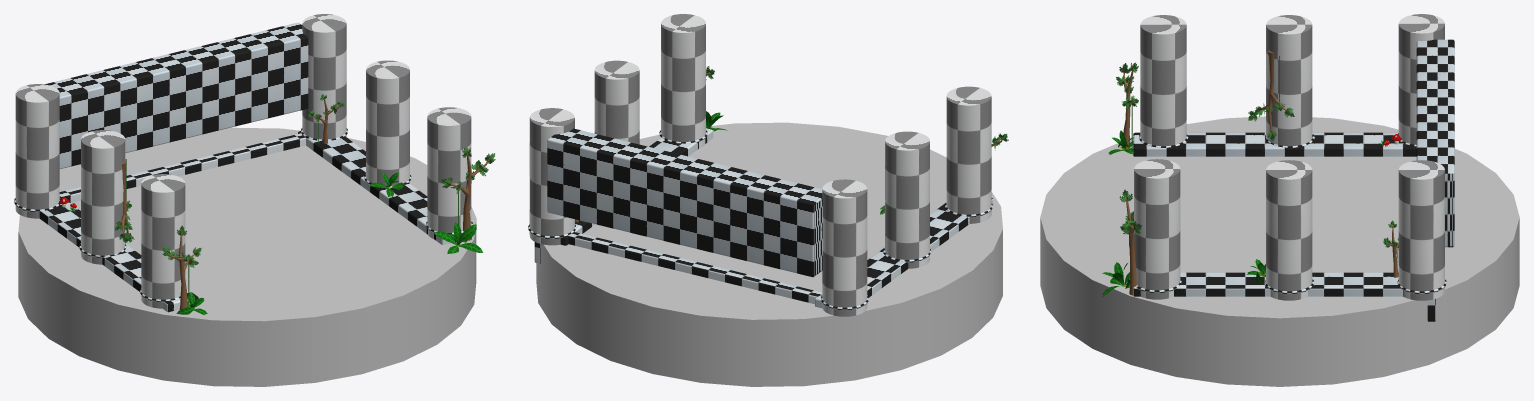
The model's file is GameScene_Jungle.FBX.
3 renders of one model, left to right at view 1: azimuth 30°, elevation 25°; view 2: azimuth 150°, elevation 25°; view 3: azimuth 270°, elevation 25°, orthographic. The views are drawn at different scales.
Visible parts, largest first — view 1: JungleScene; view 2: JungleScene; view 3: JungleScene.
Boxes of the visible parts, bbox=[...] form: JungleScene: bbox=[14, 14, 495, 386]; JungleScene: bbox=[528, 14, 1008, 386]; JungleScene: bbox=[1040, 14, 1519, 386].
Size of the model in its own units: 380 by 380 by 166.
